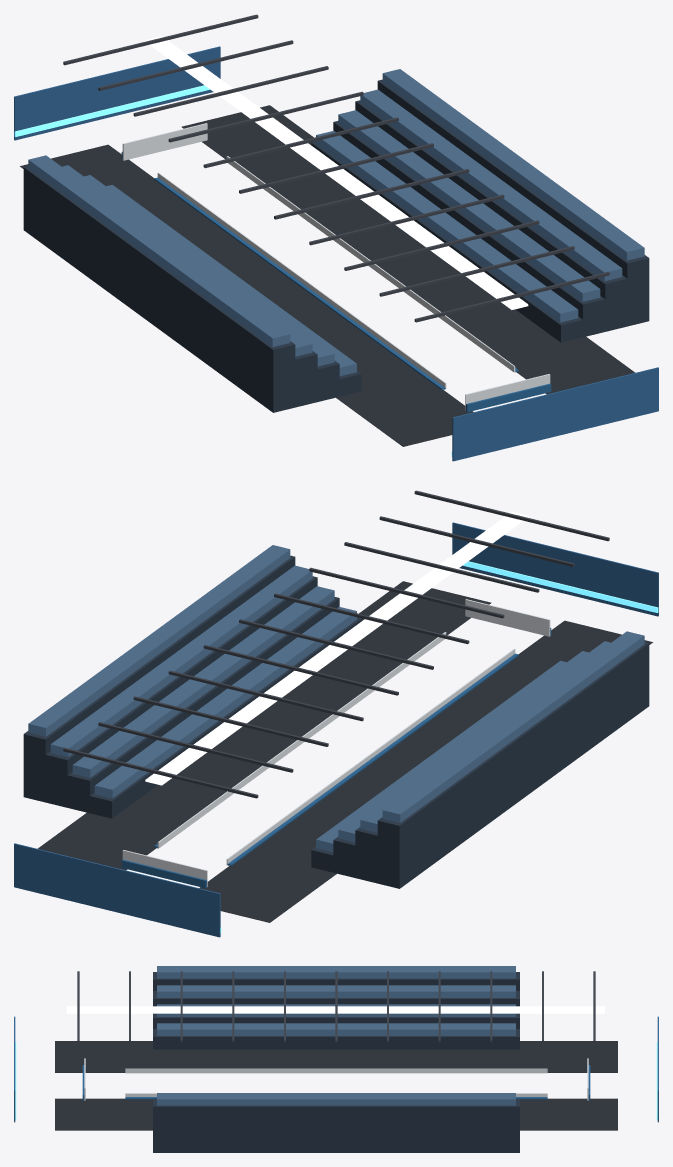
File: arena.glb
3 renders of one model, top to bottom at view 1: azimuth 30°, elevation 25°; view 2: azimuth 150°, elevation 25°; view 3: azimuth 270°, elevation 25°, orthographic. The views are drawn at different scales.
Parts seen in each view (by area): view 1: deck_r, stand_l_3, deck_l, banner_far, banner_near, crowd_r_3, crowd_l_3, crowd_r_2, crowd_r_0, crowd_r_1, stand_r_3, stand_r_2 (+33 smaller); view 2: deck_r, stand_l_3, deck_l, banner_near, banner_far, crowd_r_3, crowd_l_3, crowd_r_2, crowd_r_0, crowd_r_1, stand_r_3, stand_r_2 (+33 smaller); view 3: stand_r_3, deck_l, deck_r, stand_l_0, crowd_r_3, crowd_l_3, crowd_l_0, crowd_l_2, stand_l_3, stand_l_1, stand_l_2, board_l (+9 smaller).
Part boxes in pixels (x1,y1,x2,y2): deck_r: (181,105,634,394); stand_l_3: (23,166,295,412); deck_l: (20,144,473,446); banner_far: (452,367,658,461); banner_near: (14,46,220,140); crowd_r_3: (382,69,644,260); crowd_l_3: (28,155,290,346); crowd_r_2: (360,89,622,281); crowd_r_0: (316,130,578,322); crowd_r_1: (338,110,600,301); stand_r_3: (377,79,649,326); stand_r_2: (355,100,627,331); deck_r: (38,581,491,870); stand_l_3: (377,642,649,888); deck_l: (199,620,652,922); banner_near: (14,843,220,937); banner_far: (452,522,658,616); crowd_r_3: (28,545,290,736); crowd_l_3: (382,631,644,822); crowd_r_2: (50,565,312,757); crowd_r_0: (94,606,356,798); crowd_r_1: (72,586,334,777); stand_r_3: (23,555,295,802); stand_r_2: (45,576,317,807); stand_r_3: (153,1098,519,1152); deck_l: (55,1041,617,1072); deck_r: (55,1098,617,1130); stand_l_0: (153,1029,519,1049); crowd_r_3: (157,1093,515,1105); crowd_l_3: (157,966,515,978); crowd_l_0: (157,1023,515,1035); crowd_l_2: (157,985,515,997); stand_l_3: (153,972,519,990); stand_l_1: (153,1013,519,1028); stand_l_2: (153,991,519,1006); board_l: (125,1068,547,1073).
Size of the model in its own units: 27.2 by 7.53 by 55.
